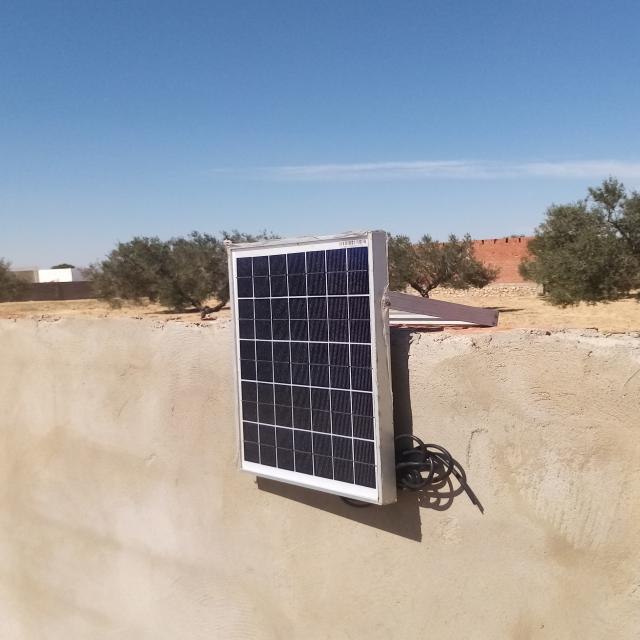no faulty: (232, 229, 379, 505)
